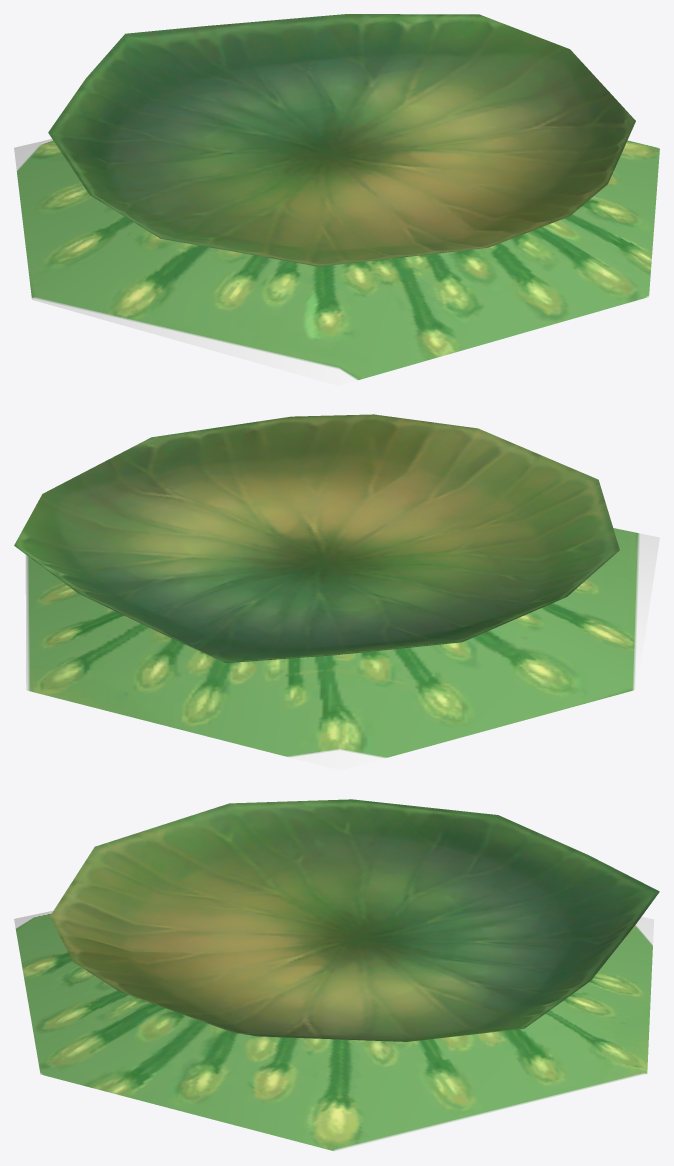
The model's file is Map_07_grass18.FBX.
3 views of the same model, one above another, from view 1: azimuth 30°, elevation 25°; view 2: azimuth 150°, elevation 25°; view 3: azimuth 270°, elevation 25° (orthographic). The views are drawn at different scales.
Visible parts, largest first — view 1: Map_07_grass18a, Map_07_grass18b; view 2: Map_07_grass18a, Map_07_grass18b; view 3: Map_07_grass18a, Map_07_grass18b.
Part boxes in pixels (x1,y1,x2,y2): Map_07_grass18a: [48, 14, 635, 266]; Map_07_grass18b: [14, 139, 659, 385]; Map_07_grass18a: [14, 414, 619, 662]; Map_07_grass18b: [25, 528, 659, 770]; Map_07_grass18a: [50, 799, 659, 1041]; Map_07_grass18b: [14, 910, 654, 1151].
Bounding box in the file's own units: 147 × 19.15 × 133.
Materials: 2 (2 with a texture image).
